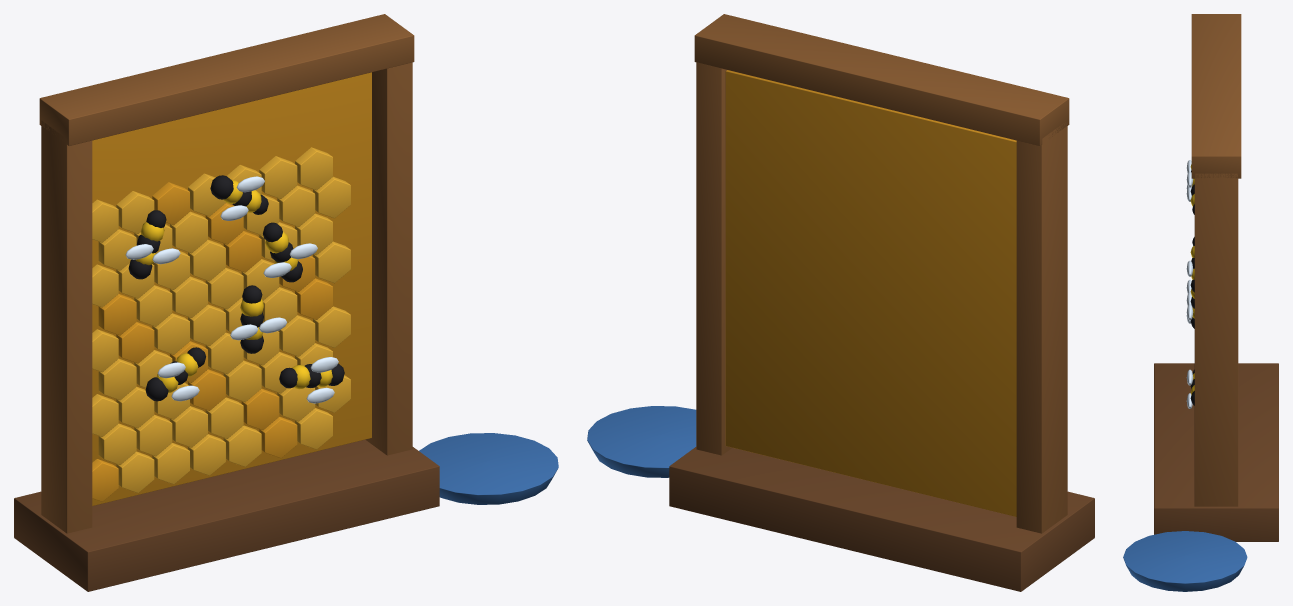
File: beehive.glb
3 renders of one model, left to right at view 1: azimuth 30°, elevation 25°; view 2: azimuth 150°, elevation 25°; view 3: azimuth 270°, elevation 25°, orthographic. The views are drawn at different scales.
Visible parts, largest first — view 1: beehive; view 2: beehive; view 3: beehive.
Part boxes in pixels (bbox=[...]): beehive: bbox=[14, 14, 558, 591]; beehive: bbox=[587, 14, 1094, 591]; beehive: bbox=[1123, 14, 1278, 591].
Bounding box in the file's own units: 1.5 × 1.36 × 0.4994.
